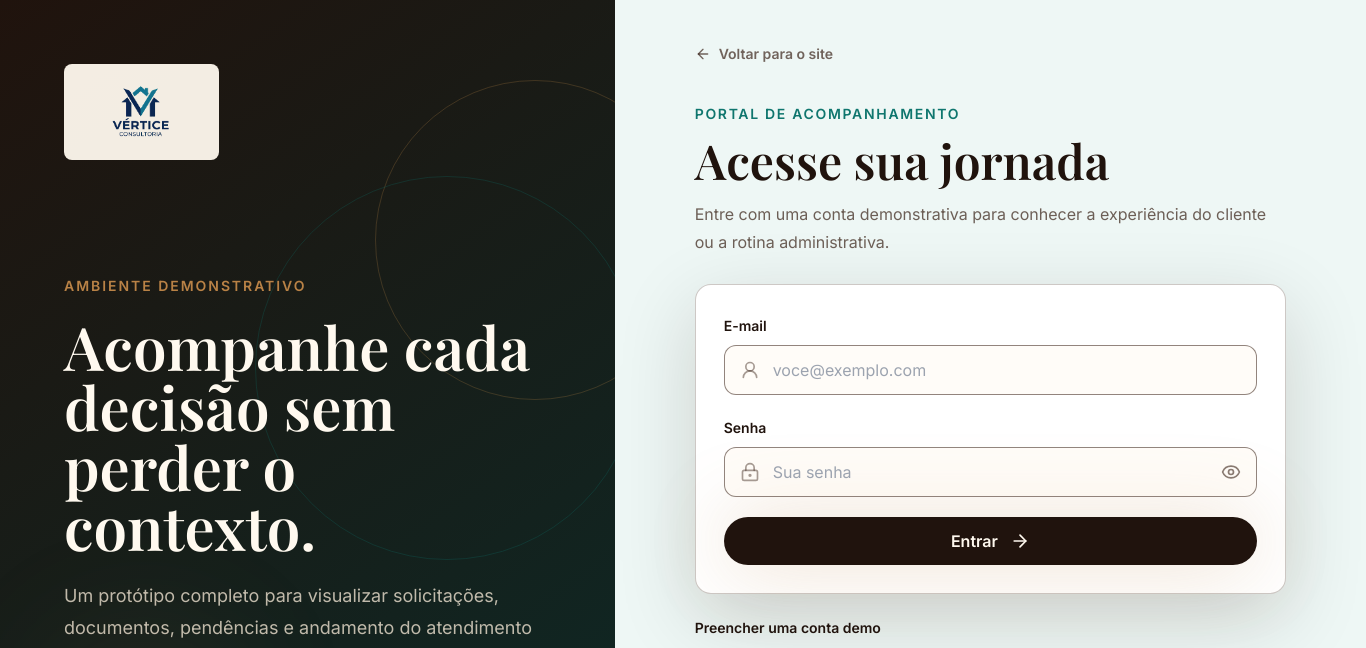
Test: LoginPage › submits controlled credentials and exposes invalid access clearly
Type "cliente@demo.com" into the field labelled "E-mail". click: (990, 370)
box: [724,345,1257,395]
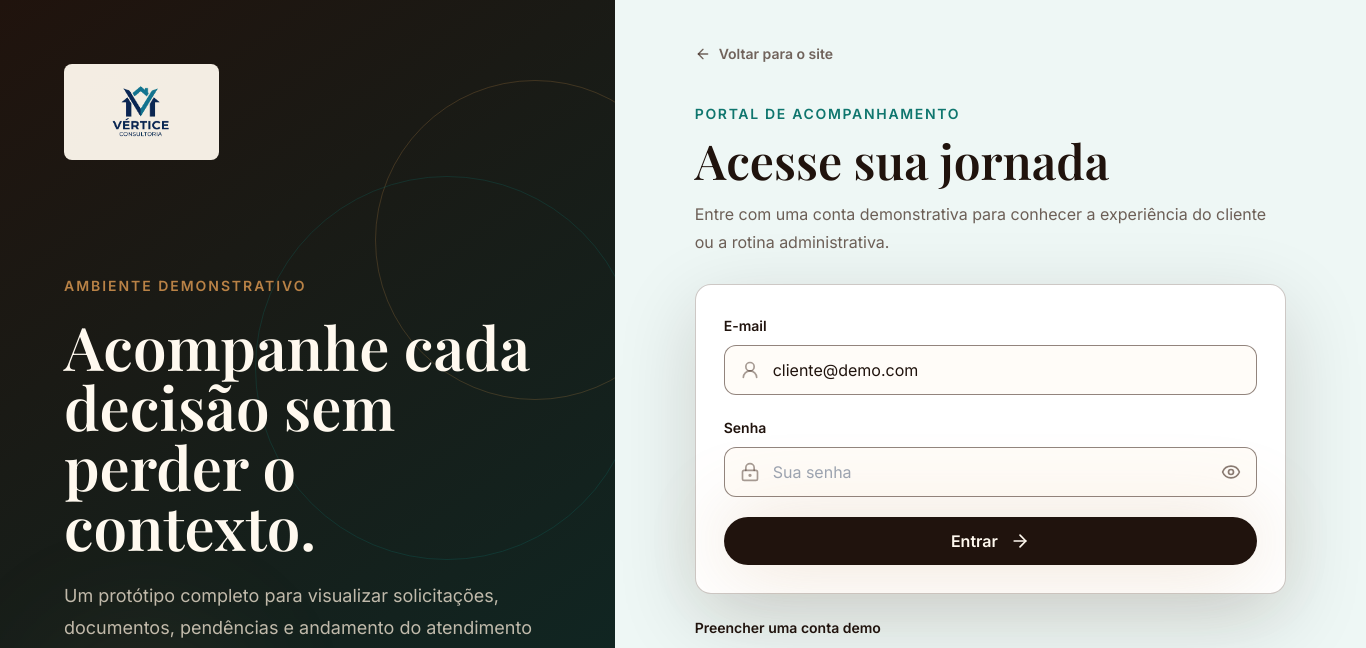
Type "errada" into the password field labelled "Senha". click: (990, 472)
box: [724,447,1257,497]
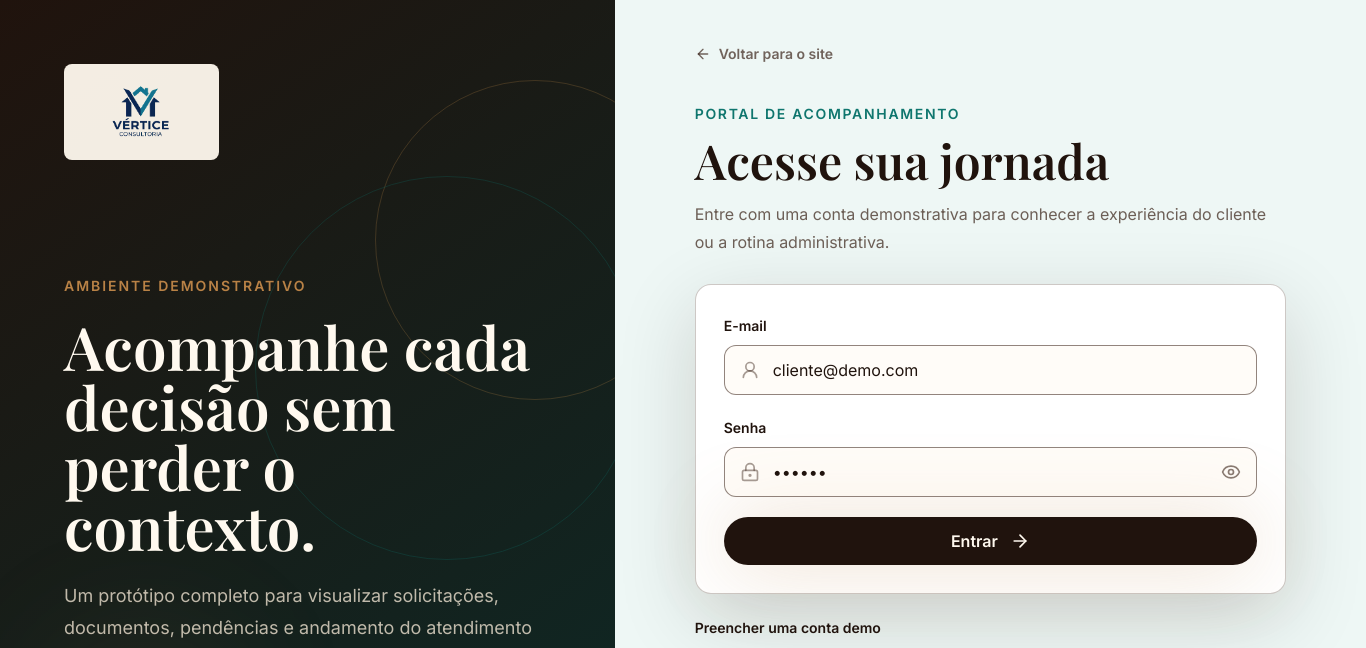
Click the button "Entrar". click: click(990, 541)
box: [724,517,1257,565]
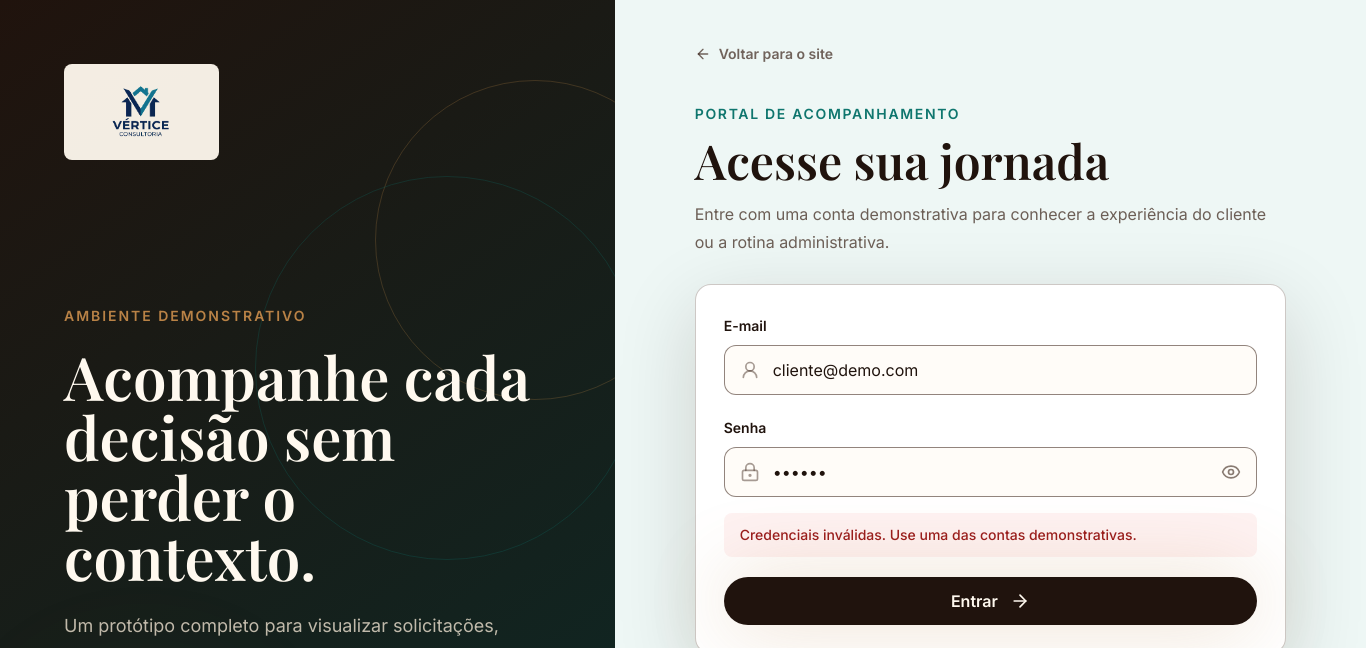
Expected: the message shows "Credenciais inválidas", [740,526,1137,543]
